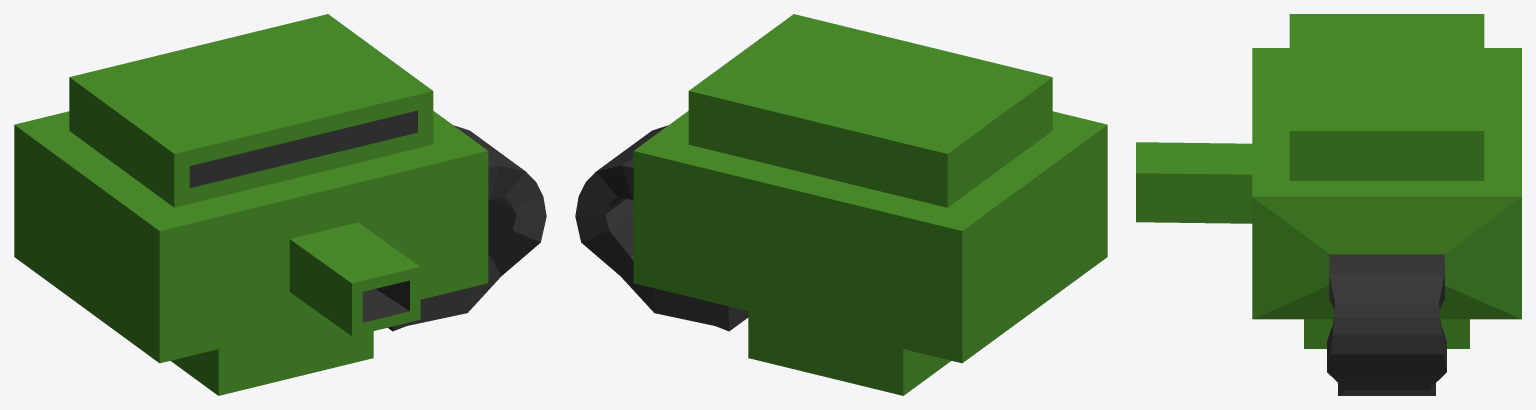
The model's file is T Metralleta.fbx.
3 renders of one model, left to right at view 1: azimuth 30°, elevation 25°; view 2: azimuth 150°, elevation 25°; view 3: azimuth 270°, elevation 25°, orthographic. The views are drawn at different scales.
Parts seen in each view (by area): view 1: metralleta; view 2: metralleta; view 3: metralleta.
Part boxes in pixels (x1=…): metralleta: x1=14, y1=14, x2=546, y2=395; metralleta: x1=575, y1=14, x2=1107, y2=395; metralleta: x1=1136, y1=14, x2=1521, y2=395.
Size of the model in its own units: 3.41 by 1.97 by 2.86.
